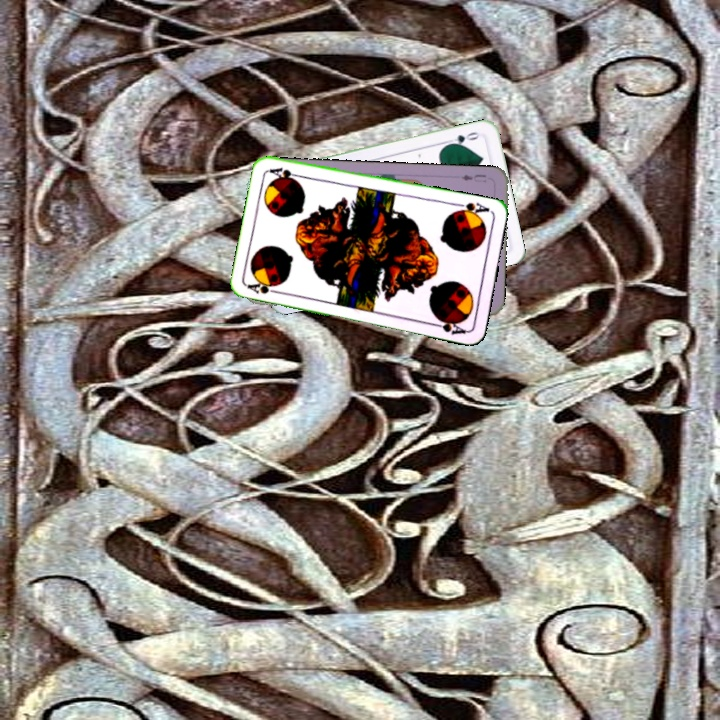EU: (457, 170, 488, 185)
GO: (443, 128, 484, 148)
SA: (451, 198, 492, 220), (244, 279, 284, 297)
